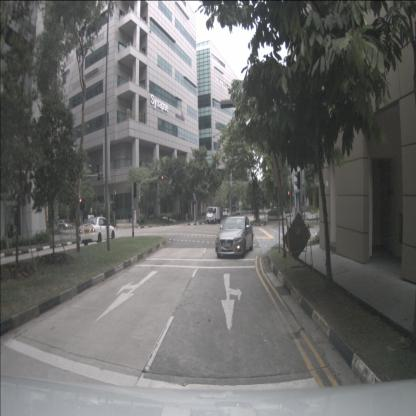human-pedestrian-adult: (129, 211, 132, 222)
vehicle-car: (216, 216, 254, 258), (78, 217, 115, 245), (206, 206, 223, 224), (57, 219, 72, 230), (223, 208, 230, 217)
